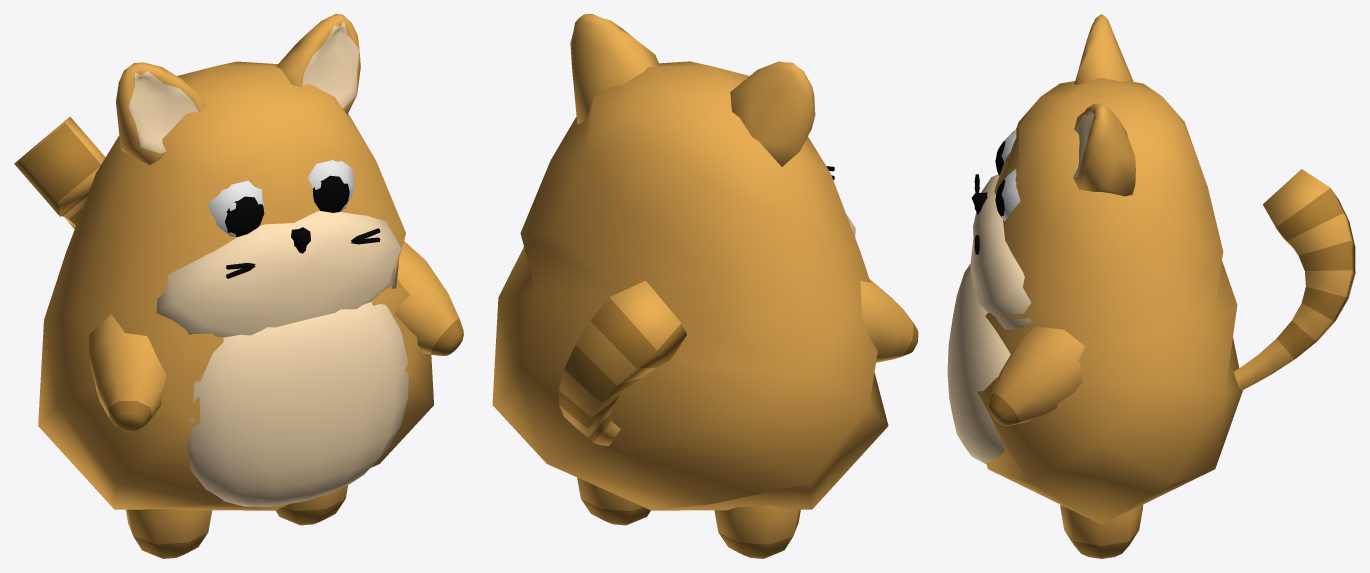
File: John Cat.fbx
3 renders of one model, left to right at view 1: azimuth 30°, elevation 25°; view 2: azimuth 150°, elevation 25°; view 3: azimuth 270°, elevation 25°, orthographic. The views are drawn at different scales.
Visible parts, largest first — view 1: Cube.011, Cube.018, Cube.020, Cube.013, RArm, BézierCurve, LArm, Rleg, Cube.019, Cube.015, LLeg, Cube.017; view 2: Cube.011, Cube.013, BézierCurve, Rleg, RArm, LLeg; view 3: Cube.011, BézierCurve, Cube.018, Cube.013, LArm, Cube.020, LLeg, Cube.015.
Part boxes in pixels (x1=…): Cube.011: x1=38, y1=61, x2=433, y2=510; Cube.018: x1=187, y1=302, x2=408, y2=506; Cube.020: x1=156, y1=211, x2=401, y2=337; Cube.013: x1=116, y1=14, x2=360, y2=164; RArm: x1=89, y1=314, x2=166, y2=431; BézierCurve: x1=14, y1=116, x2=105, y2=229; LArm: x1=394, y1=241, x2=463, y2=355; Rleg: x1=126, y1=509, x2=212, y2=558; Cube.019: x1=225, y1=175, x2=349, y2=236; Cube.015: x1=207, y1=160, x2=354, y2=236; LLeg: x1=275, y1=485, x2=347, y2=525; Cube.017: x1=226, y1=228, x2=380, y2=278; Cube.011: x1=492, y1=61, x2=888, y2=510; Cube.013: x1=570, y1=14, x2=815, y2=166; BézierCurve: x1=558, y1=280, x2=686, y2=445; Rleg: x1=714, y1=505, x2=800, y2=558; RArm: x1=860, y1=279, x2=918, y2=362; LLeg: x1=577, y1=477, x2=650, y2=525; Cube.011: x1=978, y1=78, x2=1242, y2=524; BézierCurve: x1=1234, y1=169, x2=1355, y2=390; Cube.018: x1=947, y1=264, x2=1010, y2=463; Cube.013: x1=1073, y1=14, x2=1135, y2=196; LArm: x1=988, y1=326, x2=1084, y2=425; Cube.020: x1=970, y1=174, x2=1031, y2=329; LLeg: x1=1060, y1=504, x2=1143, y2=558; Cube.015: x1=1001, y1=130, x2=1020, y2=221.
Bounding box in the file's own units: 75.08 × 100 × 80.06.
